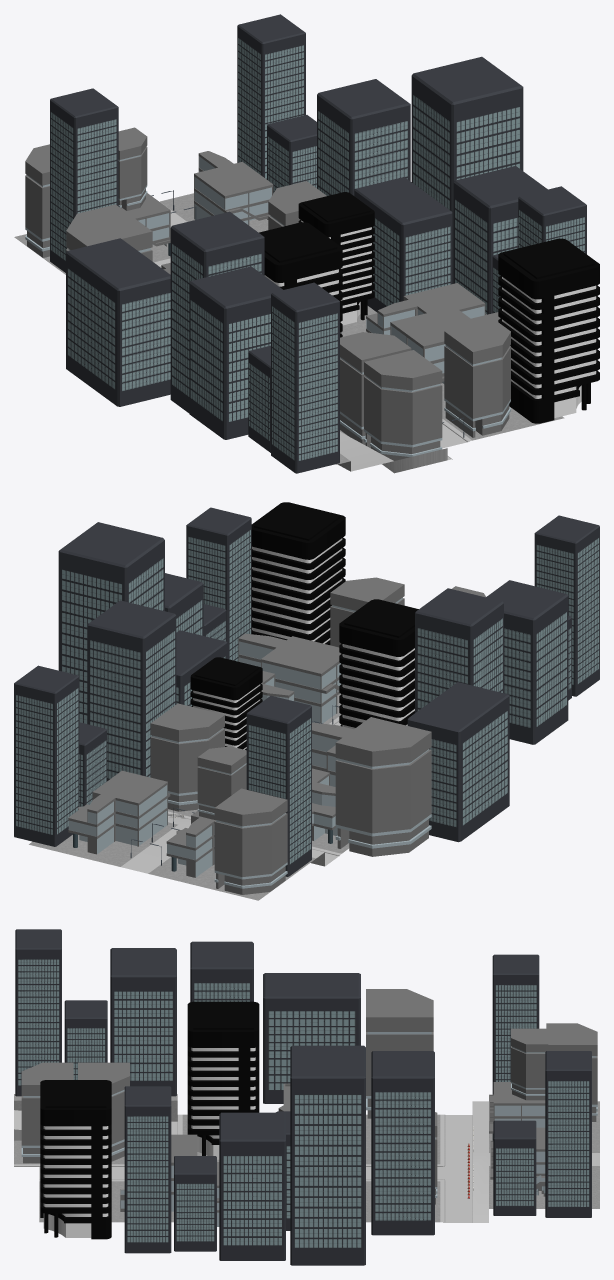
The model's file is CourseA.fbx.
3 views of the same model, one above another, from view 1: azimuth 30°, elevation 25°; view 2: azimuth 150°, elevation 25°; view 3: azimuth 270°, elevation 25° (orthographic). The views are drawn at different scales.
Parts seen in each view (by area): view 1: BuildingA.003, Mob building_A.001, Mob building_B.002, Mob building_C.001, Mob building_A.003, Mob building_B.001, Mob building_C, Mob building_A.004, Mob building_C.003, Mob building_B, BuildingB.005, Mob building_A.006 (+16 smaller); view 2: Mob building_B.001, BuildingB.003, Mob building_A.001, BuildingA.003, Mob building_C.003, Mob building_B.002, Mob building_A.003, BuildingA.001, Mob building_B, Mob building_C, Mob building_C.001, BuildingB.001 (+16 smaller); view 3: Mob building_B.002, Mob building_B.001, BuildingA.003, Mob building_A.006, Road, BuildingA.001, Mob building_A.003, Mob building_A.001, Mob building_C.002, Mob building_C.003, Mob building_C.001, Mob building_C (+13 smaller).
Part boxes in pixels (<box>): BuildingA.003: <box>498,238,599,423</box>; Mob building_A.001: <box>66,238,170,406</box>; Mob building_B.002: <box>411,56,523,283</box>; Mob building_C.001: <box>271,282,339,473</box>; Mob building_A.003: <box>189,266,282,439</box>; Mob building_B.001: <box>317,79,410,195</box>; Mob building_C: <box>50,88,118,272</box>; Mob building_A.004: <box>354,177,452,312</box>; Mob building_C.003: <box>237,14,305,179</box>; Mob building_B: <box>170,211,264,412</box>; BuildingB.005: <box>364,350,442,460</box>; Mob building_A.006: <box>453,166,547,314</box>; Mob building_B.001: <box>87,600,176,781</box>; BuildingB.003: <box>335,717,431,856</box>; Mob building_A.001: <box>407,682,509,842</box>; BuildingA.003: <box>251,502,345,644</box>; Mob building_C.003: <box>14,665,79,846</box>; Mob building_B.002: <box>58,522,164,723</box>; Mob building_A.003: <box>486,580,568,744</box>; BuildingA.001: <box>339,599,418,729</box>; Mob building_B: <box>415,588,503,712</box>; Mob building_C: <box>246,695,311,876</box>; Mob building_C.001: <box>534,515,599,696</box>; BuildingB.001: <box>214,788,287,894</box>; Mob building_B.002: <box>290,1045,365,1265</box>; Mob building_B.001: <box>371,1051,434,1235</box>; BuildingA.003: <box>40,1080,111,1239</box>; Mob building_A.006: <box>219,1112,285,1260</box>; Road: <box>14,1094,599,1222</box>; BuildingA.001: <box>187,1001,259,1159</box>; Mob building_A.003: <box>110,948,176,1096</box>; Mob building_A.001: <box>263,973,360,1103</box>; Mob building_C.002: <box>124,1086,171,1253</box>; Mob building_C.003: <box>545,1051,591,1217</box>; Mob building_C.001: <box>15,929,61,1096</box>; Mob building_C: <box>492,954,539,1094</box>.
Bounding box in the file's own units: 86.77 × 115 × 41.
